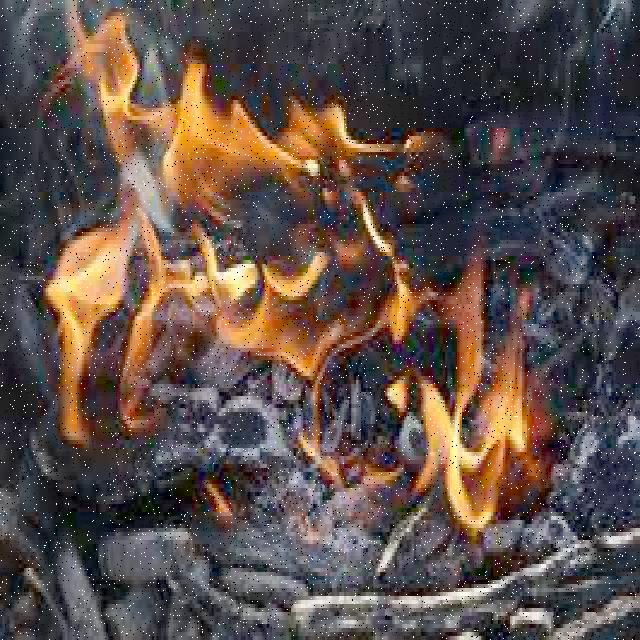fire: (58, 30, 544, 501)
